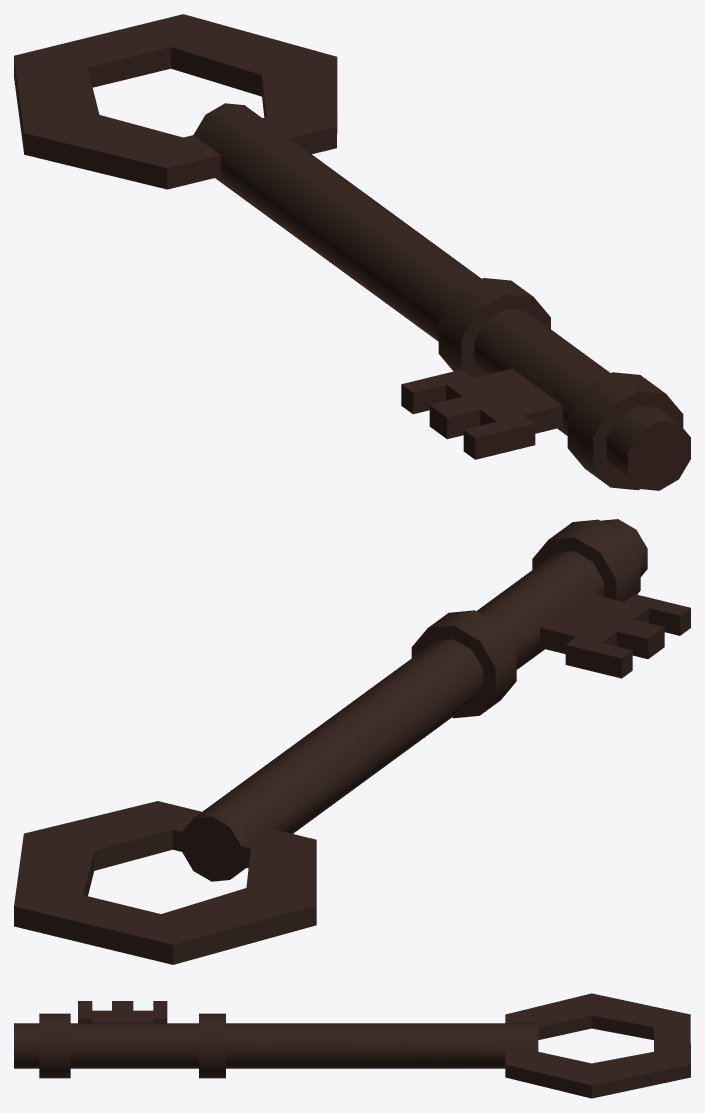
Rendered from Key for room door(R).fbx.
3 renders of one model, top to bottom at view 1: azimuth 30°, elevation 25°; view 2: azimuth 150°, elevation 25°; view 3: azimuth 270°, elevation 25°, orthographic. The views are drawn at different scales.
Visible parts, largest first — view 1: Cylinder002; view 2: Cylinder002; view 3: Cylinder002.
Part boxes in pixels (x1=…): Cylinder002: x1=14, y1=14, x2=690, y2=490; Cylinder002: x1=14, y1=519, x2=690, y2=964; Cylinder002: x1=14, y1=993, x2=690, y2=1098.
Bounding box in the file's own units: 3.86 × 11.97 × 1.17.
